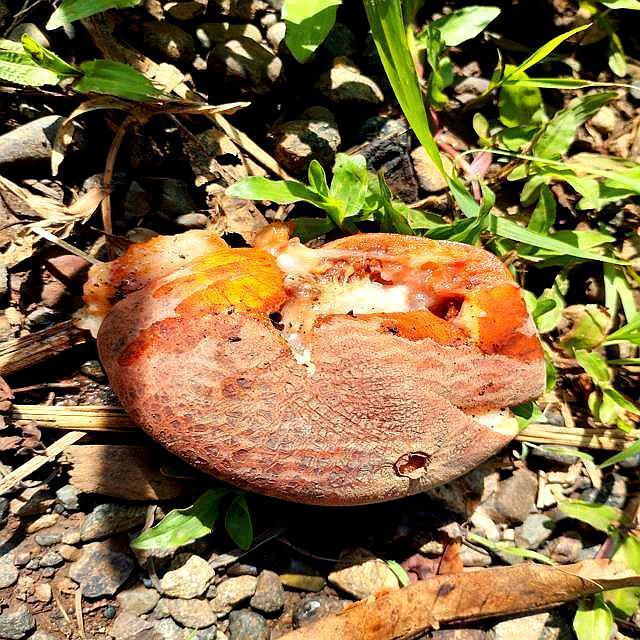Biodegradable: (90, 226, 541, 506)
